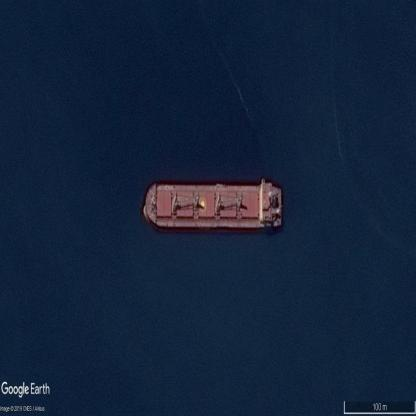ship: (143, 180, 283, 229)
